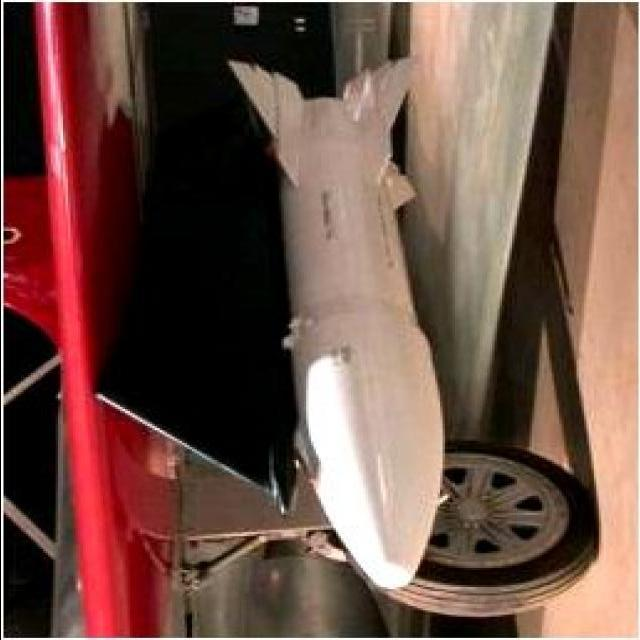missile: (264, 54, 448, 592)
